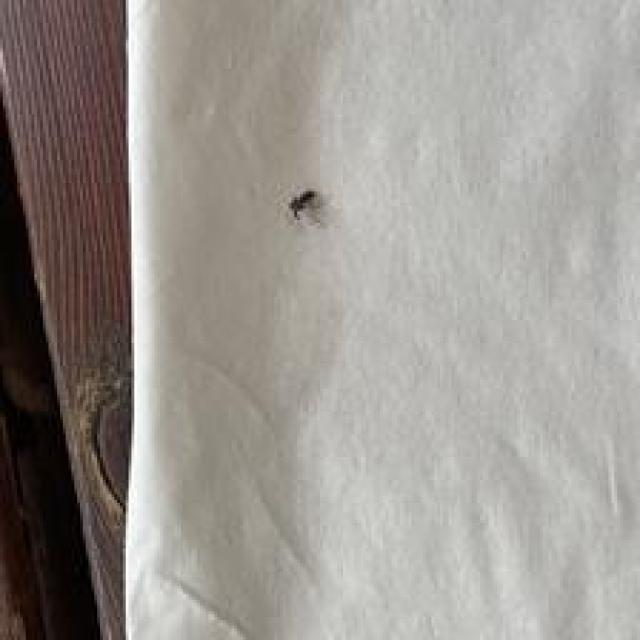Aedes albopictus: (287, 187, 319, 222)
